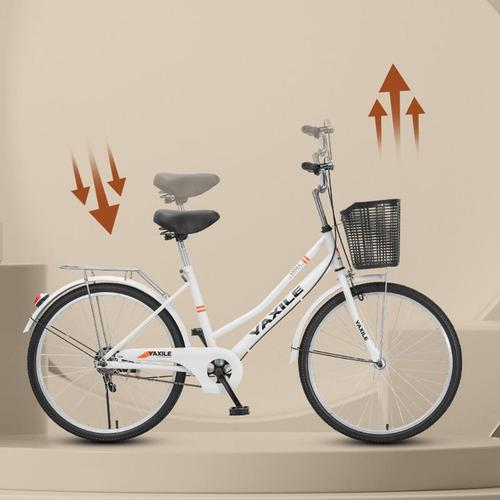单车: (19, 115, 482, 462)
